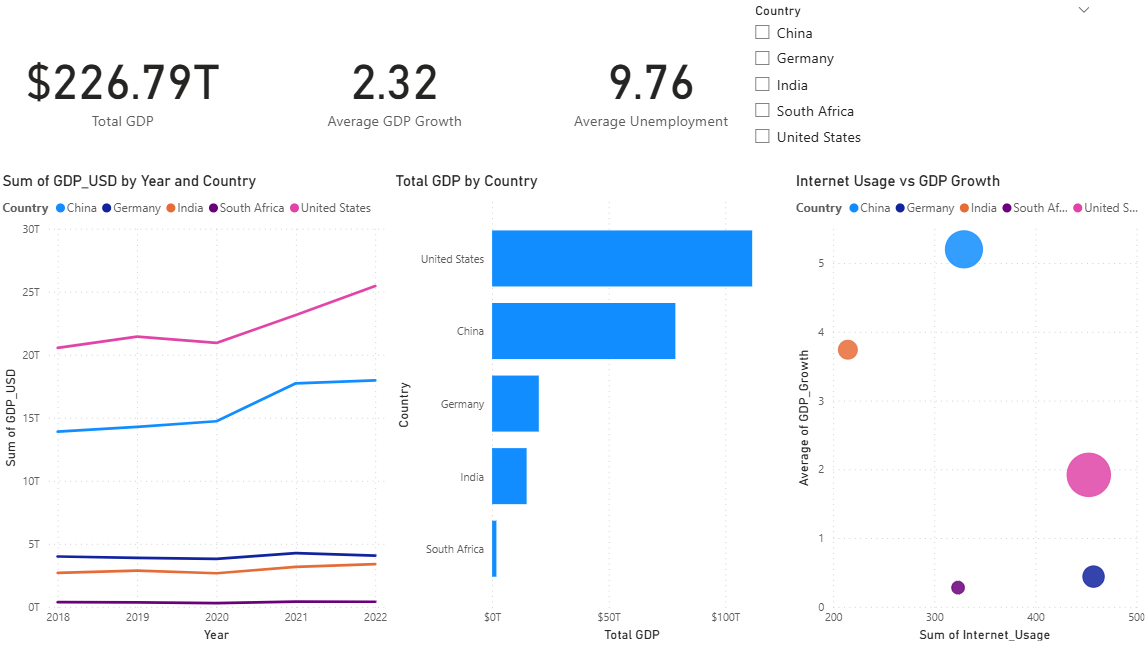

This screenshot's page, from the dashboard's own definition file:
{"tool":"powerbi","page":{"name":"Page 1","canvas":[1280,720],"ordinal":0},"visuals":[{"type":"card","fields":{"Values":["worldbank.Total GDP"]},"box":[0,0,276.7,194.2],"z":0},{"type":"card","fields":{"Values":["worldbank.Average GDP Growth"]},"box":[313.9,0,254,194.2],"z":1000},{"type":"card","fields":{"Values":["worldbank.Average Unemployment"]},"box":[567.9,0,313.9,194.2],"z":2000},{"type":"lineChart","fields":{"Category":["worldbank.Year"],"Y":["Sum(worldbank.GDP_USD)"],"Series":["worldbank.Country"]},"box":[0,194.2,436.9,525.8],"z":3000},{"type":"clusteredBarChart","fields":{"Category":["worldbank.Country"],"Y":["worldbank.Total GDP"]},"box":[436.9,194.2,444.9,525.8],"z":4000},{"type":"scatterChart","title":"Internet Usage vs GDP Growth","fields":{"X":["Sum(worldbank.Internet_Usage)"],"Y":["Avg(worldbank.GDP_Growth)"],"Size":["Avg(worldbank.GDP_USD)"],"Series":["worldbank.Country"]},"box":[881.8,194.2,398,525.8],"z":5000},{"type":"slicer","fields":{"Values":["worldbank.Country"]},"box":[829,0,397.3,194],"z":6000}]}

Visuals, with their boxes in screenshot pixels (x1, y1, x2, y2), scaled from the page's 1280x720 canvas onto the 1147x646 screenshot:
card - worldbank.Total GDP: <box>0,0,248,174</box>
card - worldbank.Average GDP Growth: <box>281,0,509,174</box>
card - worldbank.Average Unemployment: <box>509,0,790,174</box>
lineChart - worldbank.Year x Sum(worldbank.GDP_USD): <box>0,174,392,645</box>
clusteredBarChart - worldbank.Country x worldbank.Total GDP: <box>392,174,790,645</box>
"Internet Usage vs GDP Growth" scatterChart: <box>790,174,1146,645</box>
slicer - worldbank.Country: <box>743,0,1099,174</box>
